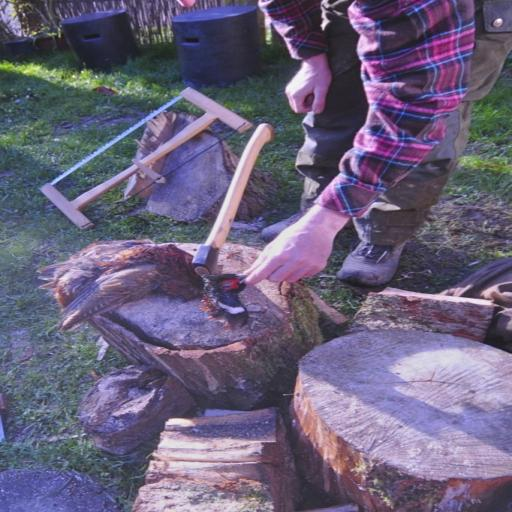Axe: (188, 118, 276, 316)
